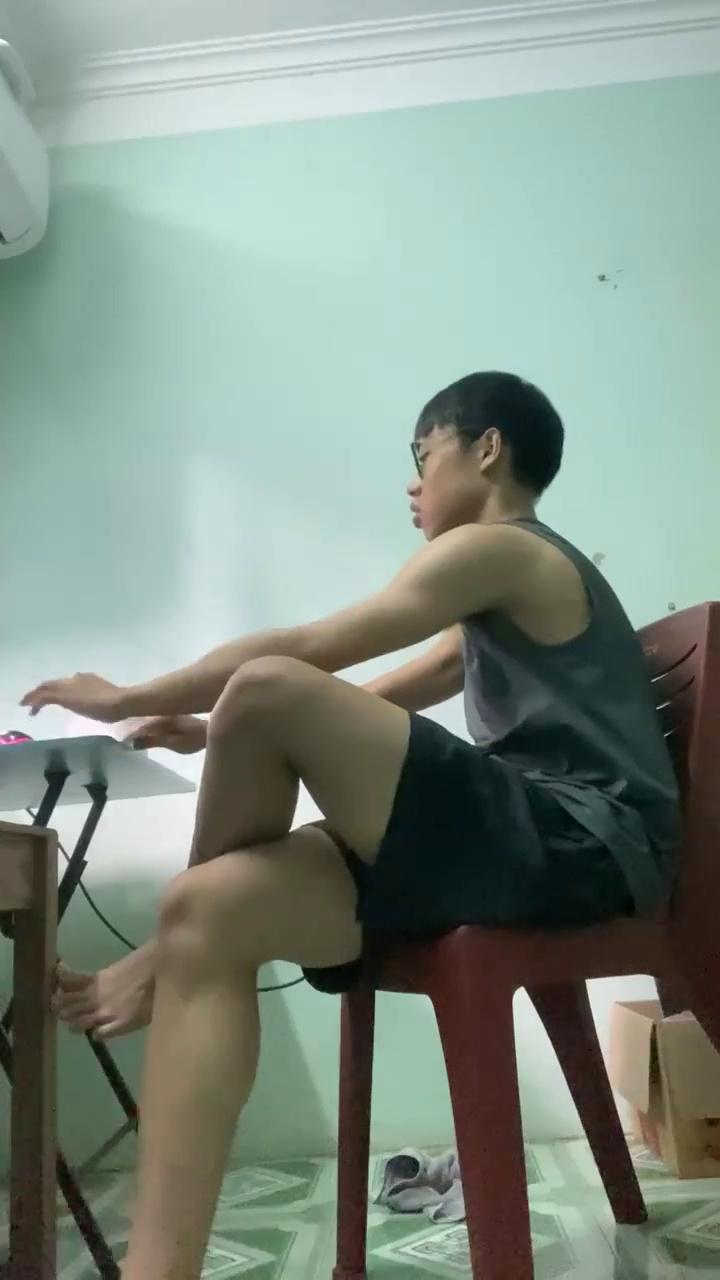BadPosture: (100, 659, 410, 1279)
